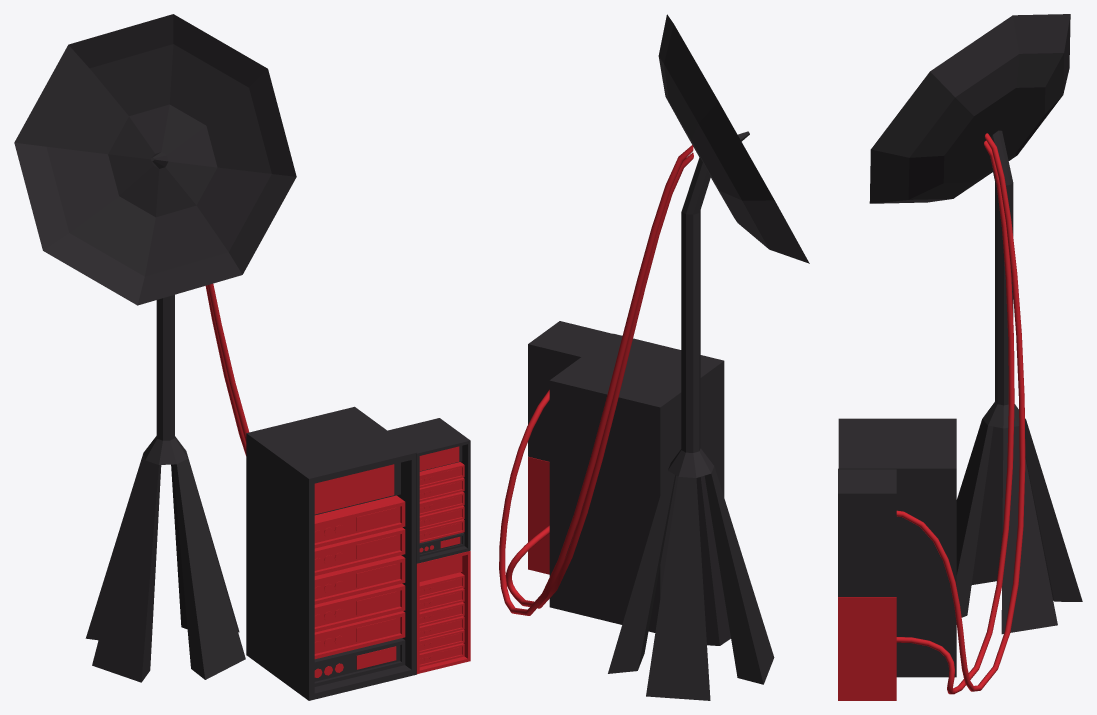
The model's file is Server.fbx.
3 views of the same model, side by side, from view 1: azimuth 30°, elevation 25°; view 2: azimuth 150°, elevation 25°; view 3: azimuth 270°, elevation 25° (orthographic). The views are drawn at different scales.
Visible parts, largest first — view 1: Server.001, wire; view 2: Server.001, wire; view 3: Server.001, wire.
Part boxes in pixels (x1,y1,x2,y2): Server.001: (14, 14, 470, 700); wire: (205, 283, 249, 455); Server.001: (528, 14, 809, 700); wire: (499, 145, 693, 615); Server.001: (838, 14, 1082, 700); wire: (896, 133, 1025, 694).
Bounding box in the file's own units: 400 × 720 × 268.
Materials: 36 (36 with a texture image).
